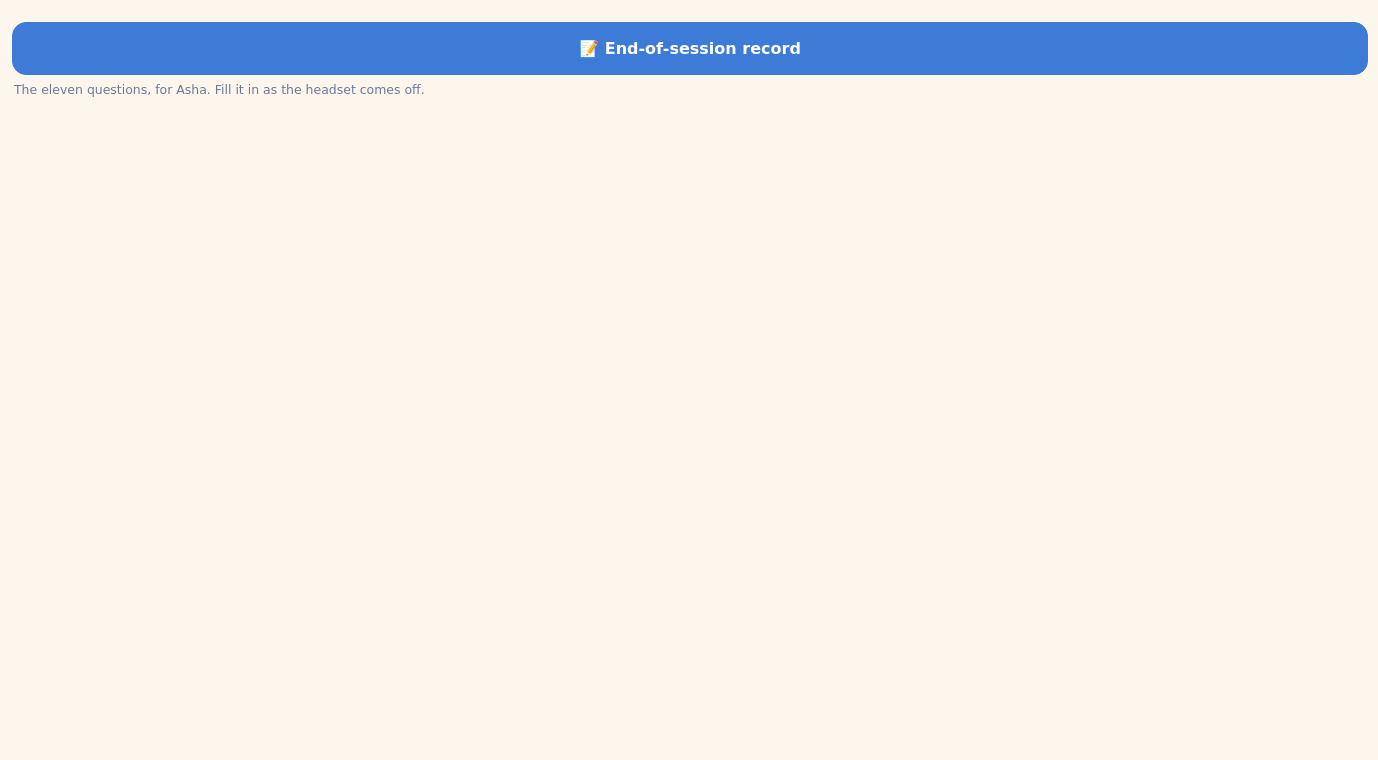
Test: SessionExperienceForm › shows the stop rule the moment the child reports feeling unwell
Click the button "📝 End-of-session record". click: [690, 48]
box: [12,22,1368,75]
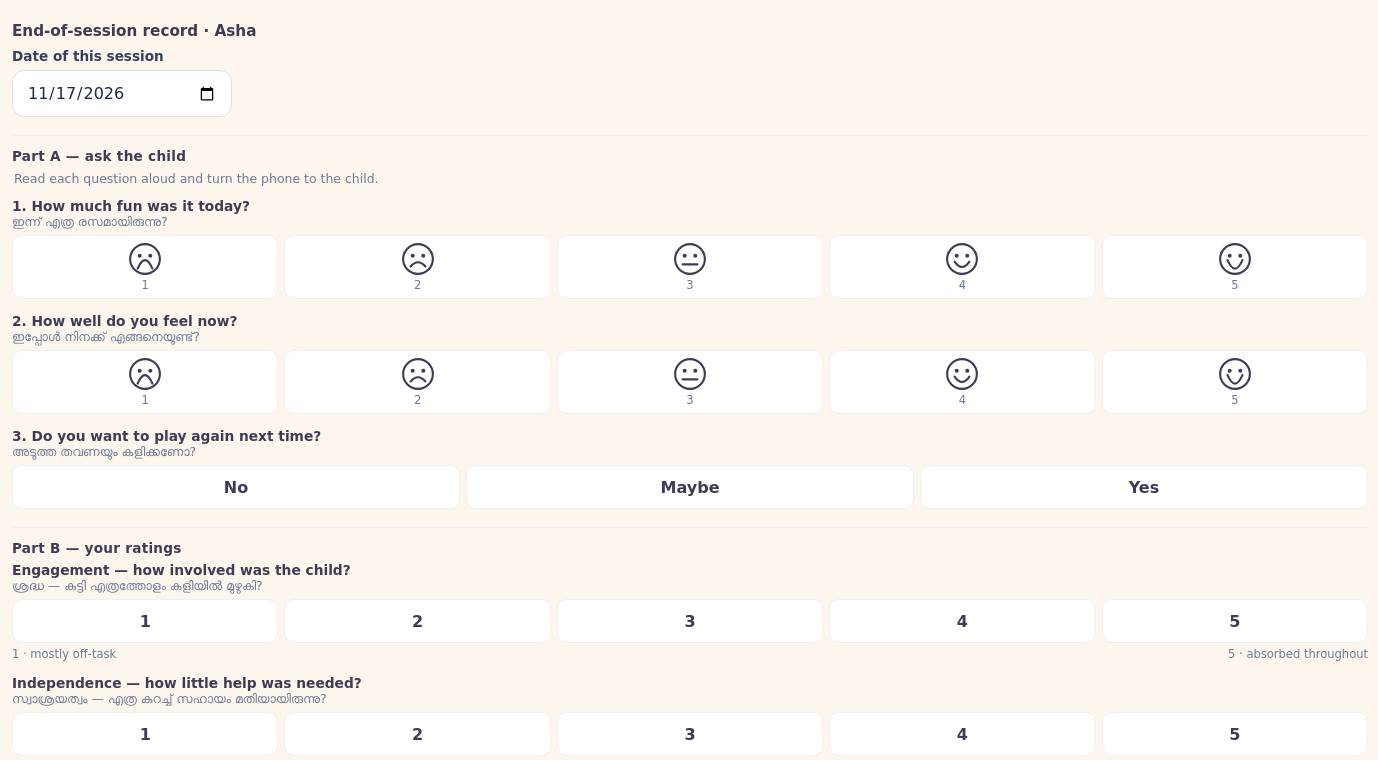
Click the button named "feeling: 2 — a little". click: [418, 382]
box: [284,350,551,414]
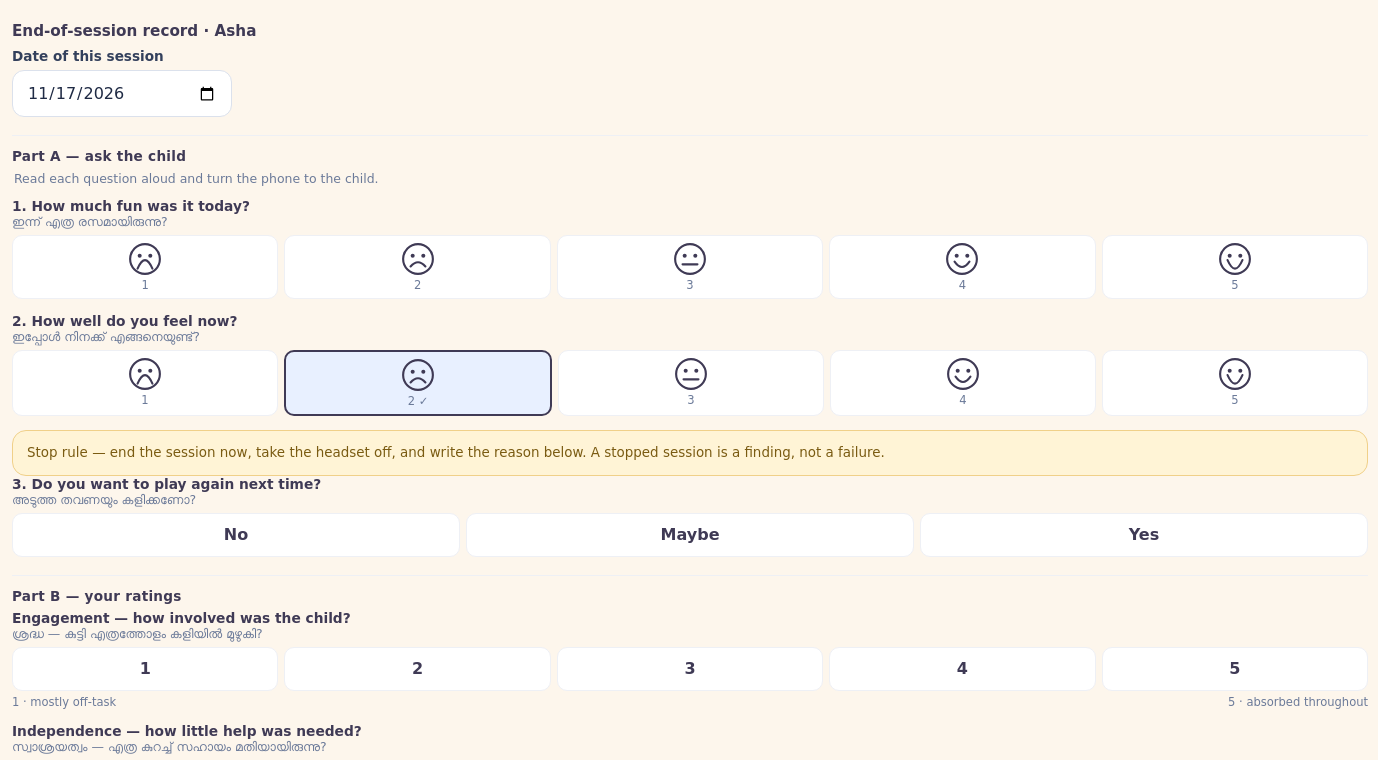
Expected: the text "Stop rule" is shown, [27,445,885,460]
